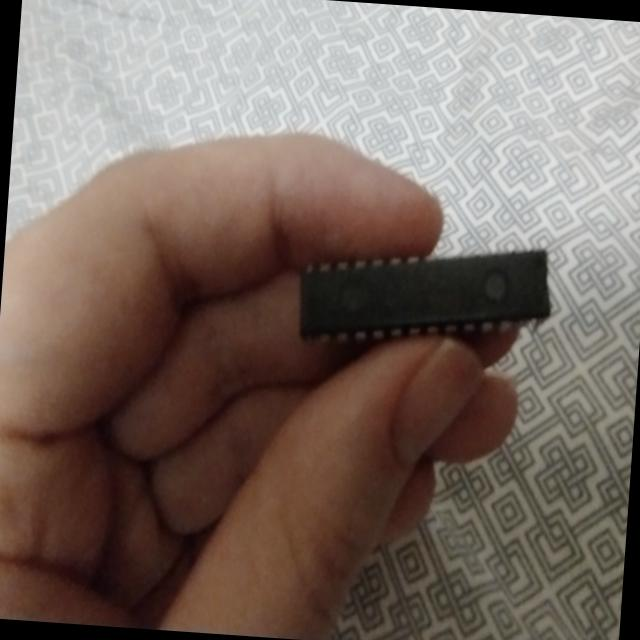atmega: (292, 227, 557, 364)
